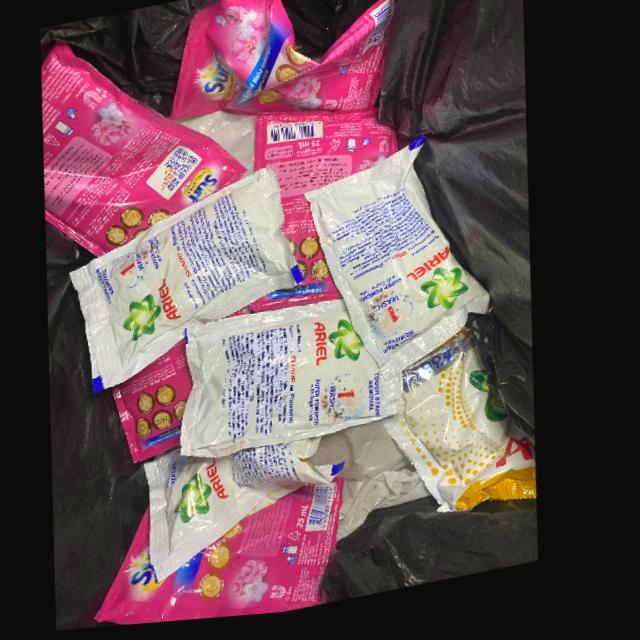plastic_sachet: (74, 171, 310, 394), (308, 142, 497, 384), (42, 43, 251, 257), (106, 483, 354, 628), (189, 303, 413, 461), (238, 117, 406, 322), (391, 335, 548, 520), (153, 442, 354, 586), (173, 0, 393, 122), (122, 340, 201, 466)
